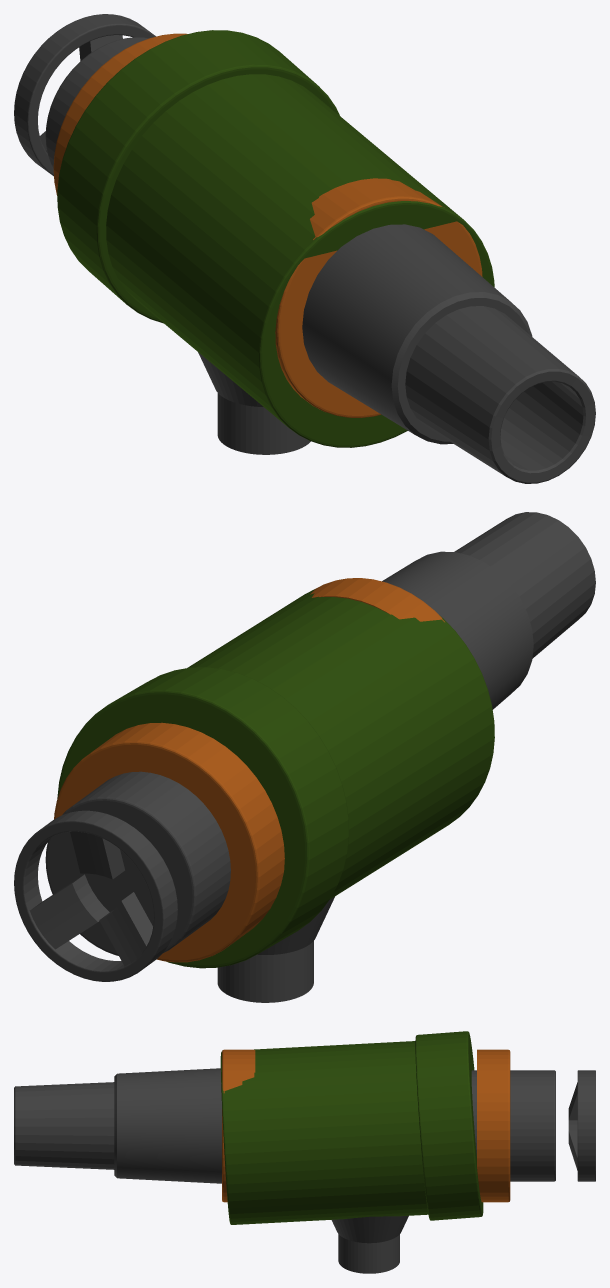
Rendered from torreta a.fbx.
3 views of the same model, one above another, from view 1: azimuth 30°, elevation 25°; view 2: azimuth 150°, elevation 25°; view 3: azimuth 270°, elevation 25° (orthographic). The views are drawn at different scales.
Parts seen in each view (by area): view 1: Cylinder058; view 2: Cylinder058; view 3: Cylinder058.
Part boxes in pixels (x1,y1,x2,y2): Cylinder058: [14, 14, 595, 483]; Cylinder058: [14, 512, 595, 1002]; Cylinder058: [14, 1031, 595, 1273].
Bounding box in the file's own units: 2.45 × 3.2 × 7.64.
